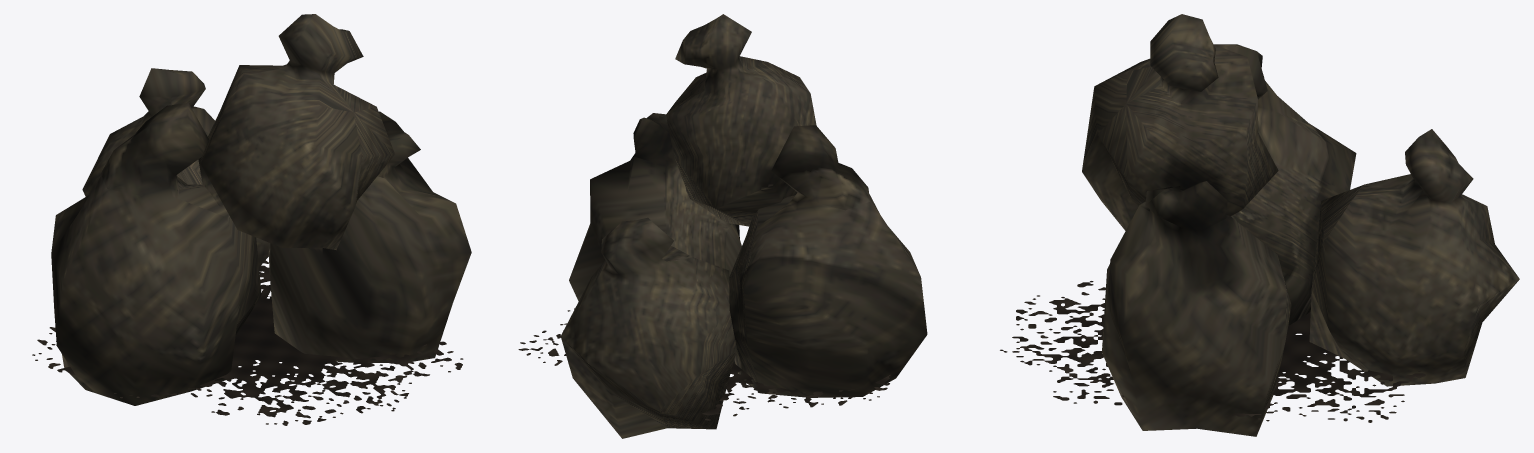
Rendered from sacks.glb.
3 renders of one model, left to right at view 1: azimuth 30°, elevation 25°; view 2: azimuth 150°, elevation 25°; view 3: azimuth 270°, elevation 25°, orthographic. The views are drawn at different scales.
Visible parts, largest first — view 1: sacks; view 2: sacks; view 3: sacks.
Part boxes in pixels (x1=…): sacks: x1=32, y1=14, x2=471, y2=425; sacks: x1=518, y1=14, x2=927, y2=438; sacks: x1=1000, y1=14, x2=1519, y2=436.
Size of the model in its own units: 0.9426 by 0.8039 by 1.05.
Materials: 2 (2 with a texture image).
